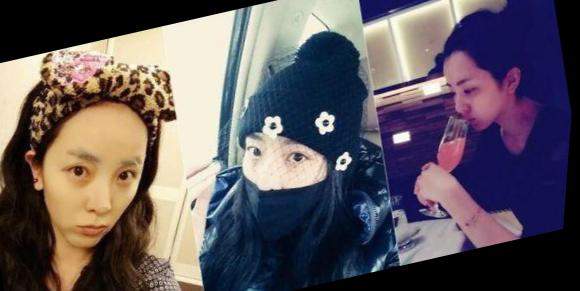NONE: (32, 130, 163, 255), (443, 63, 508, 137)
WRONG: (223, 116, 345, 231)
